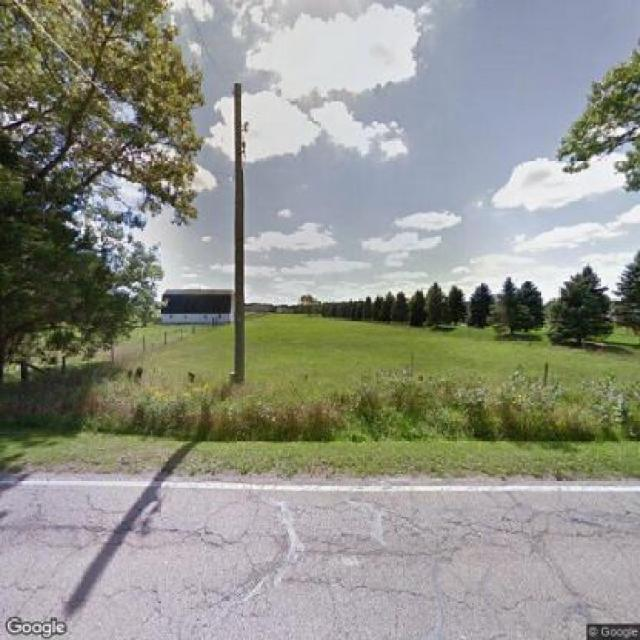pole: (220, 74, 263, 383)
